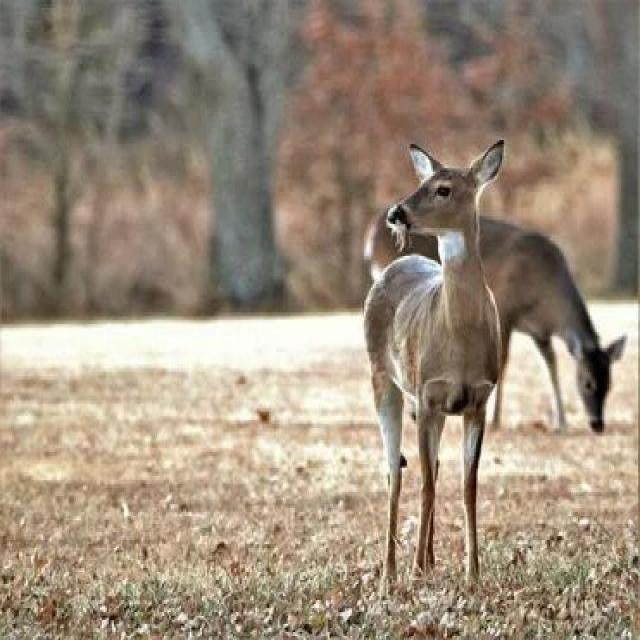deer: (288, 193, 552, 503), (374, 112, 607, 411)
